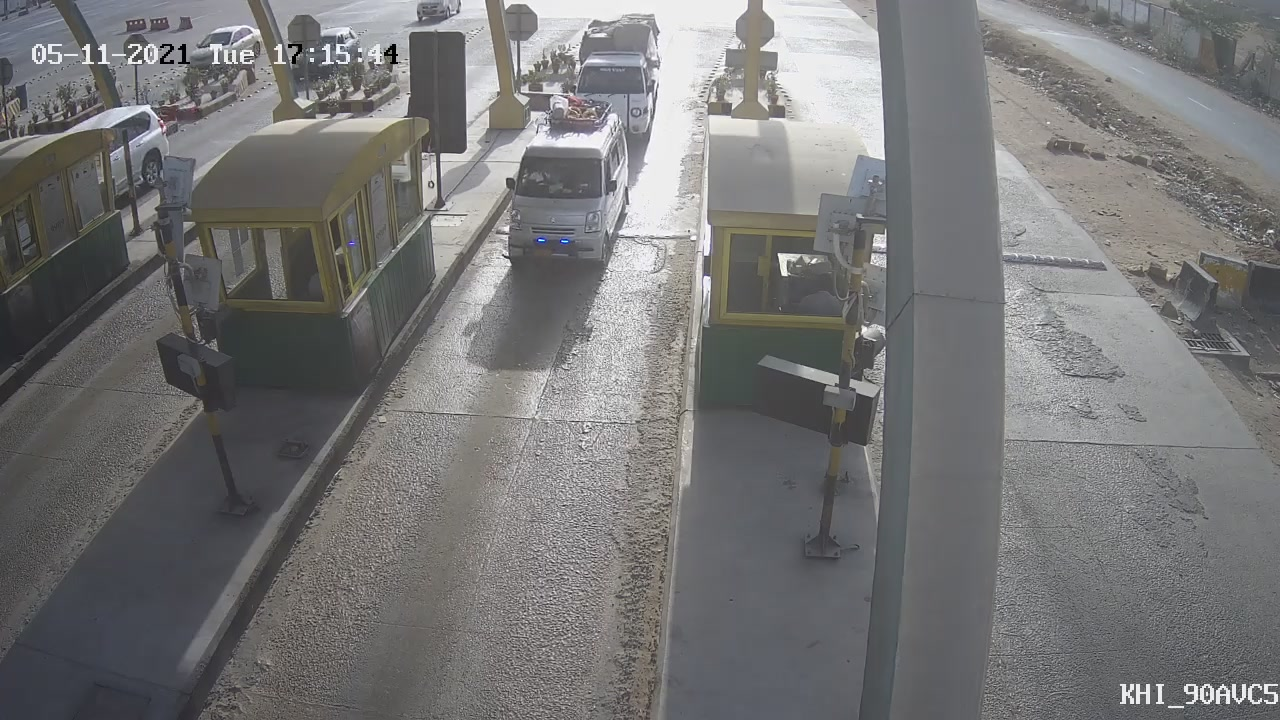F1: (479, 86, 652, 294)
